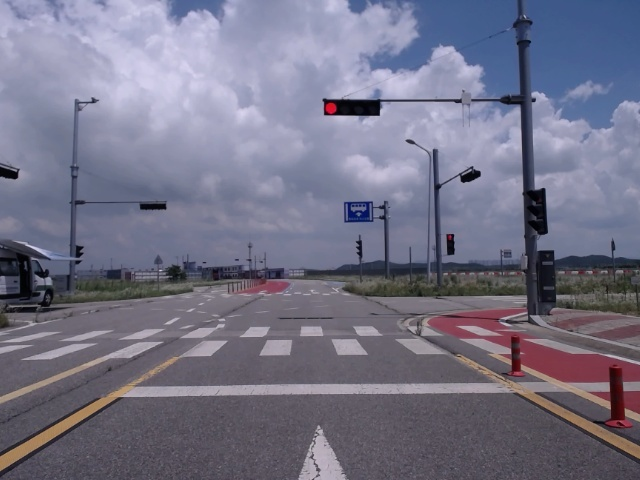red_4: (324, 101, 380, 116)
